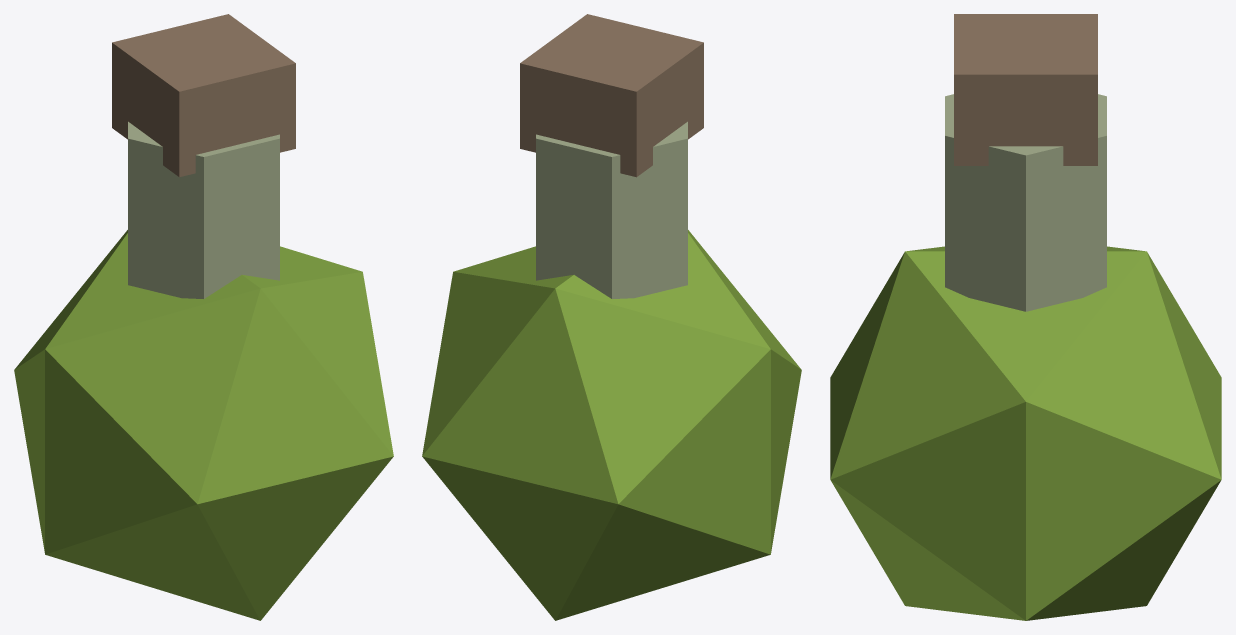
The model's file is potion_red.glb.
3 renders of one model, left to right at view 1: azimuth 30°, elevation 25°; view 2: azimuth 150°, elevation 25°; view 3: azimuth 270°, elevation 25°, orthographic. The views are drawn at different scales.
Visible parts, largest first — view 1: Flask, Cork, Neck; view 2: Flask, Cork, Neck; view 3: Flask, Neck, Cork.
Boxes of the visible parts, left/top/right/bottom form: Flask: left=14, top=230, right=393, bottom=620; Cork: left=112, top=14, right=295, bottom=177; Neck: left=128, top=121, right=279, bottom=298; Flask: left=422, top=230, right=801, bottom=620; Cork: left=520, top=14, right=703, bottom=177; Neck: left=536, top=121, right=687, bottom=298; Flask: left=830, top=246, right=1221, bottom=620; Neck: left=945, top=94, right=1106, bottom=311; Cork: left=954, top=14, right=1097, bottom=165.
Bounding box in the file's own units: 0.2722 × 0.4311 × 0.2722.
